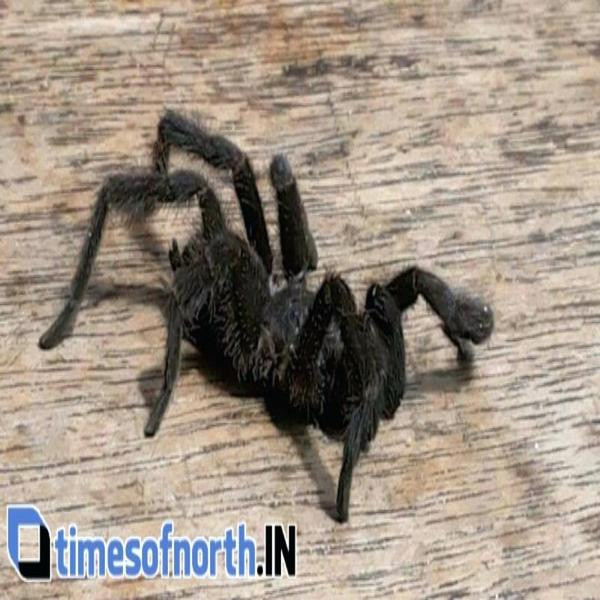Tarantula Spider: (59, 115, 488, 501)
